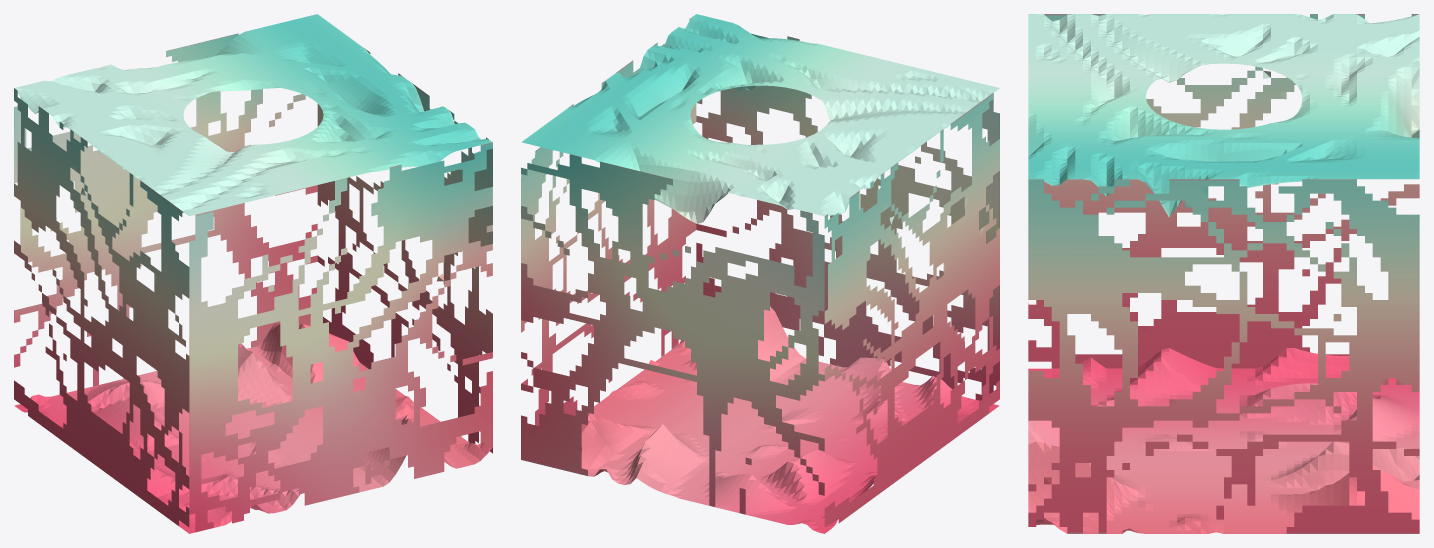
The model's file is Wire_grounds.fbx.
3 renders of one model, left to right at view 1: azimuth 30°, elevation 25°; view 2: azimuth 150°, elevation 25°; view 3: azimuth 270°, elevation 25°, orthographic. The views are drawn at different scales.
Parts seen in each view (by area): view 1: Plane, Plane_5, Plane_2, Plane_4, Plane_1, Plane_3; view 2: Plane_5, Plane_1, Plane_4, Plane_2, Plane, Plane_3; view 3: Plane_3, Plane_5, Plane_4, Plane_2.
Boxes of the visible parts, x1,y1,x2,y2 form: Plane: (189, 142, 492, 532); Plane_5: (14, 14, 492, 216); Plane_2: (14, 88, 189, 527); Plane_4: (14, 323, 492, 533); Plane_1: (14, 33, 317, 386); Plane_3: (317, 48, 492, 453); Plane_5: (521, 14, 999, 223); Plane_1: (521, 154, 824, 514); Plane_4: (581, 306, 999, 533); Plane_2: (824, 93, 999, 527); Plane: (696, 33, 999, 400); Plane_3: (521, 17, 696, 425); Plane_3: (1028, 179, 1419, 533); Plane_5: (1028, 14, 1419, 217); Plane_4: (1028, 348, 1419, 533); Plane_2: (1028, 14, 1419, 368).
Bounding box in the file's own units: 100 × 100 × 100.
Materials: 1 (1 with a texture image).
